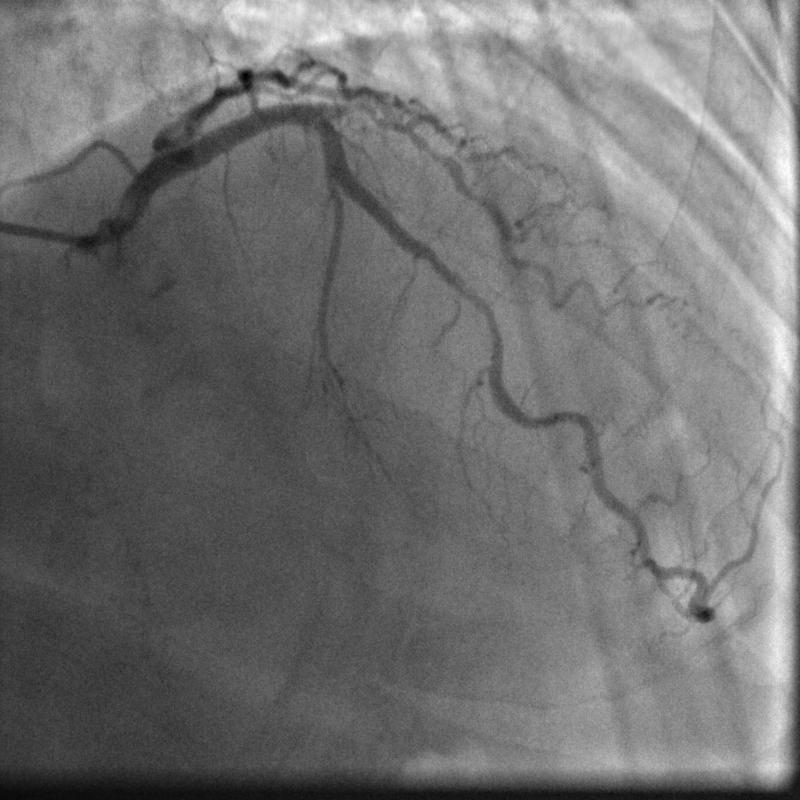Stenosis: (443, 264, 509, 353)
